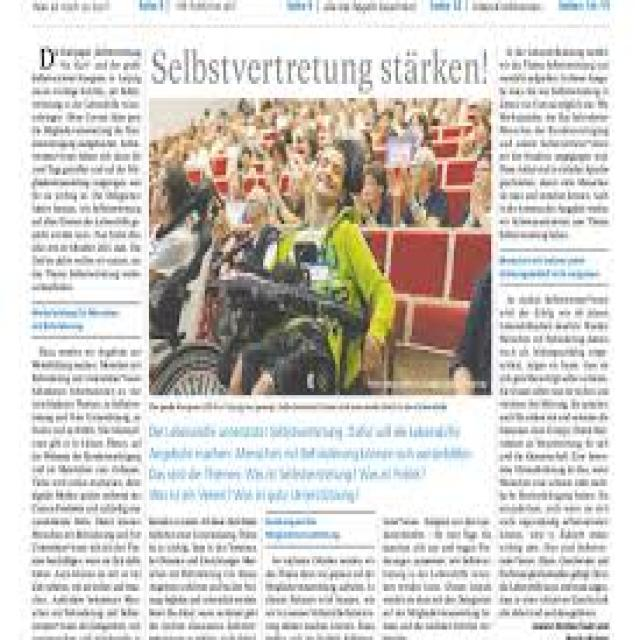paper: (25, 0, 612, 640)
